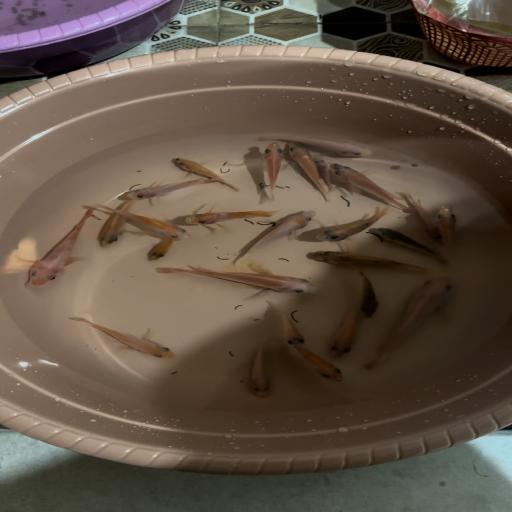nila: (362, 273, 466, 377), (11, 206, 106, 292), (147, 259, 330, 299), (60, 314, 185, 360), (228, 209, 318, 267), (324, 163, 408, 212), (92, 201, 194, 240), (281, 140, 339, 201), (260, 130, 374, 160), (309, 206, 393, 246), (186, 200, 281, 235), (303, 250, 428, 276), (89, 193, 141, 252), (374, 226, 452, 265), (119, 176, 213, 208), (170, 156, 244, 196), (243, 335, 283, 404), (259, 305, 316, 351), (396, 190, 444, 244), (320, 309, 374, 357), (256, 140, 293, 201), (290, 346, 347, 385), (350, 267, 388, 319), (436, 204, 471, 252), (142, 237, 187, 268), (306, 156, 340, 191)
